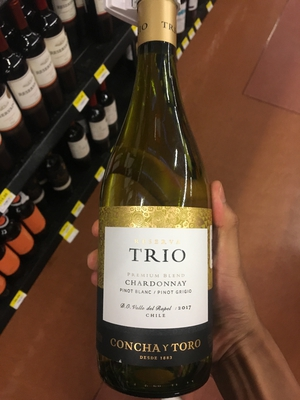trio chardonnay: (94, 26, 222, 394)
